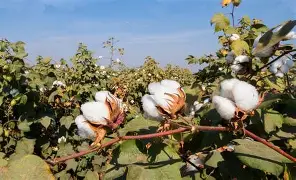crops: (73, 73, 278, 145), (1, 40, 100, 172), (224, 17, 294, 79)
